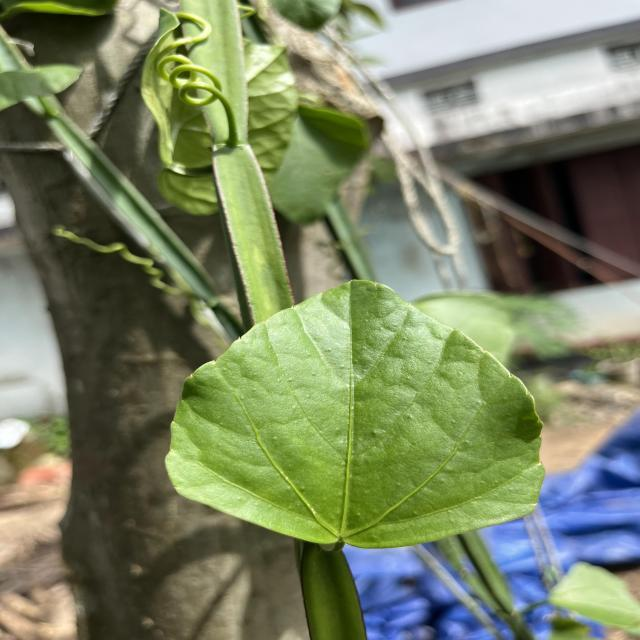Cissus quadrangularis: (160, 276, 549, 552)
